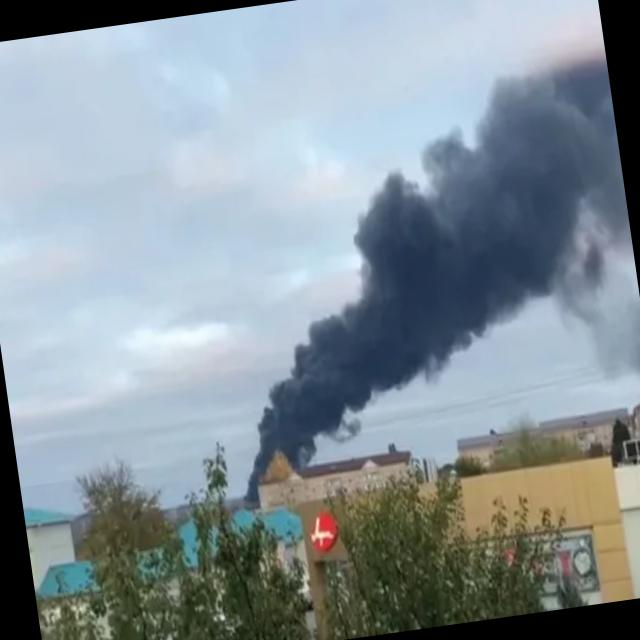Smoke: (192, 58, 640, 487)
